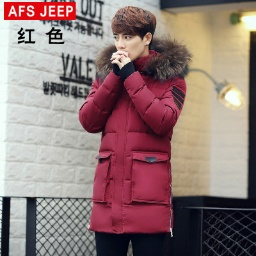face: (109, 5, 158, 59)
